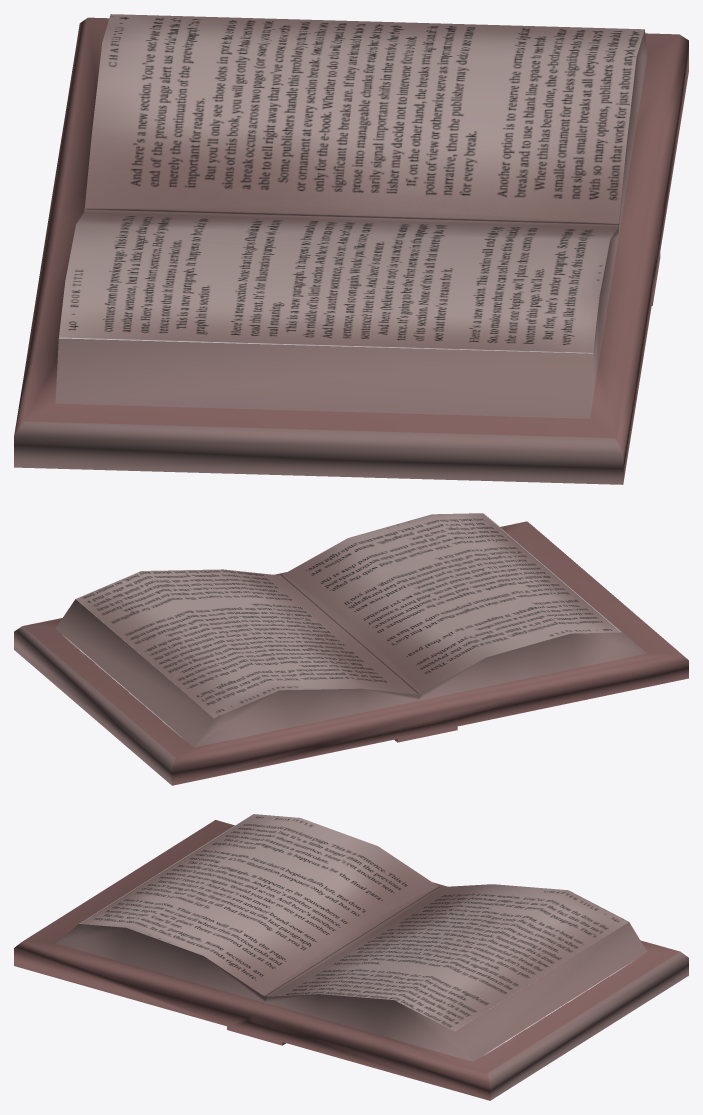
Rendered from OpenBook.fbx.
3 renders of one model, top to bottom at view 1: azimuth 30°, elevation 25°; view 2: azimuth 150°, elevation 25°; view 3: azimuth 270°, elevation 25°, orthographic. The views are drawn at different scales.
Visible parts, largest first — view 1: pCube5; view 2: pCube5; view 3: pCube5.
Part boxes in pixels (left/top/right/bottom): pCube5: left=14, top=14, right=688, bottom=484; pCube5: left=14, top=513, right=688, bottom=785; pCube5: left=14, top=814, right=688, bottom=1100.
Size of the model in its own units: 6.82 by 0.8076 by 7.47.
Materials: 1 (1 with a texture image).
